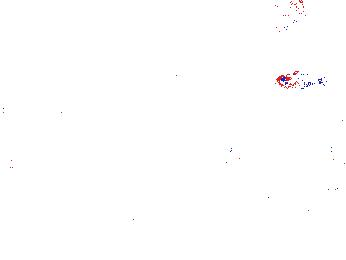X-ray fish: (254, 1, 312, 41)
glassfish: (213, 114, 293, 175), (131, 192, 174, 227)
red belly glassfish: (277, 71, 320, 91)
